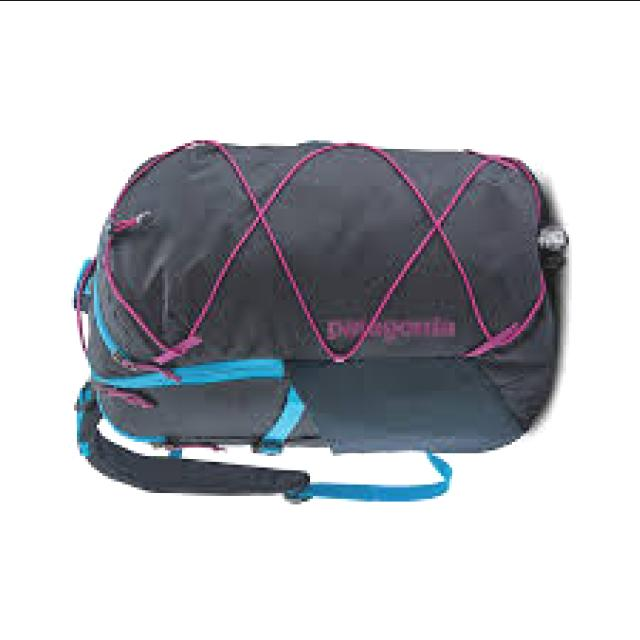backpack: (70, 141, 570, 508)
